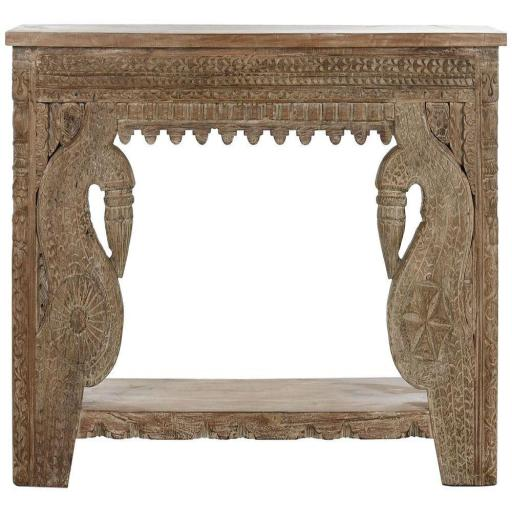table: (2, 8, 507, 490)
